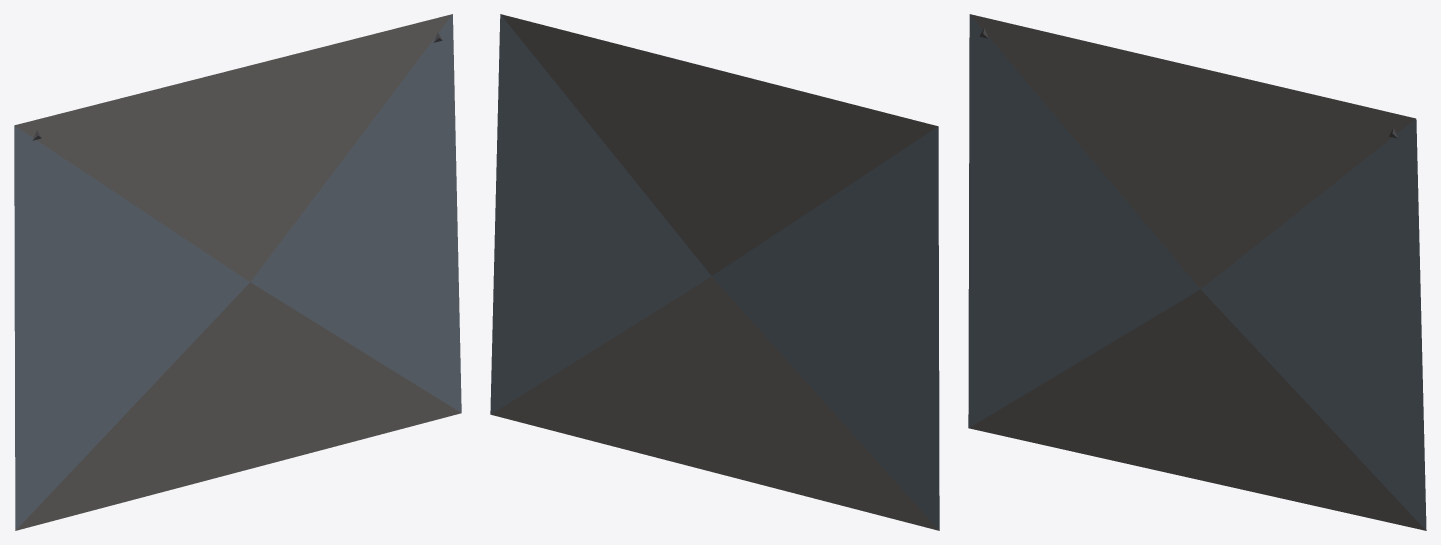
The model's file is tarp_patch.glb.
3 views of the same model, side by side, from view 1: azimuth 30°, elevation 25°; view 2: azimuth 150°, elevation 25°; view 3: azimuth 330°, elevation 25° (orthographic). The views are drawn at different scales.
Parts seen in each view (by area): view 1: tarp_patch; view 2: tarp_patch; view 3: tarp_patch.
Part boxes in pixels (<box>): tarp_patch: <box>14,14,461,530</box>; tarp_patch: <box>490,14,939,530</box>; tarp_patch: <box>968,14,1426,530</box>.
Size of the model in its own units: 0.48 by 0.42 by 0.01.
